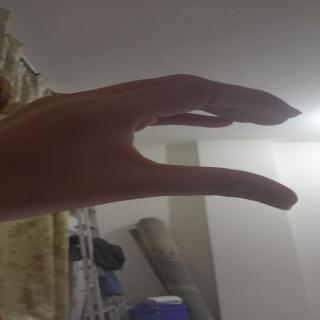JEEM: (5, 73, 320, 224)
